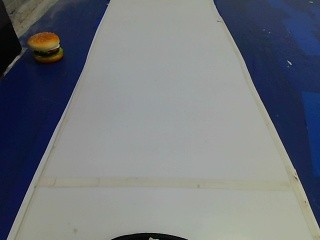burger: (18, 26, 68, 69)
